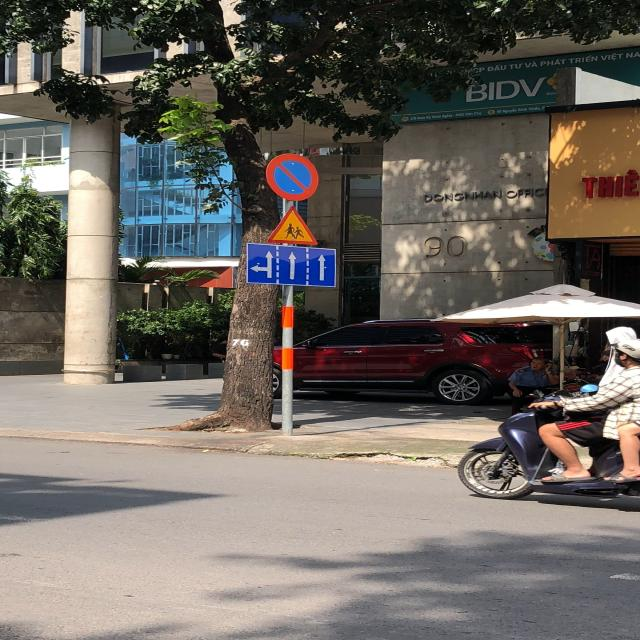Bien bao cam do xe: (262, 151, 324, 203)
Bien bao tre em: (262, 204, 325, 246)
